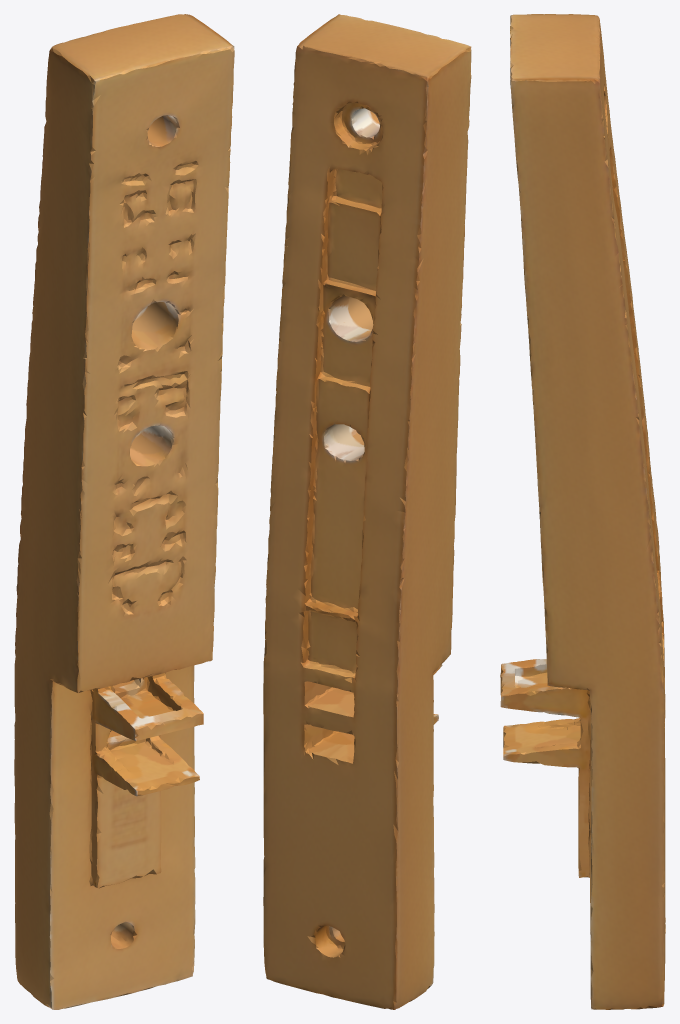
The model's file is obelisk.glb.
3 renders of one model, left to right at view 1: azimuth 30°, elevation 25°; view 2: azimuth 150°, elevation 25°; view 3: azimuth 270°, elevation 25°, orthographic. The views are drawn at different scales.
Visible parts, largest first — view 1: Obelisk_v1; view 2: Obelisk_v1; view 3: Obelisk_v1.
Part boxes in pixels (x1,y1,x2,y2): Obelisk_v1: (14, 14, 234, 1009); Obelisk_v1: (263, 14, 471, 1009); Obelisk_v1: (500, 14, 665, 1009).
Bounding box in the file's own units: 0.2975 × 1.89 × 0.3026.
Materials: 1 (1 with a texture image).
